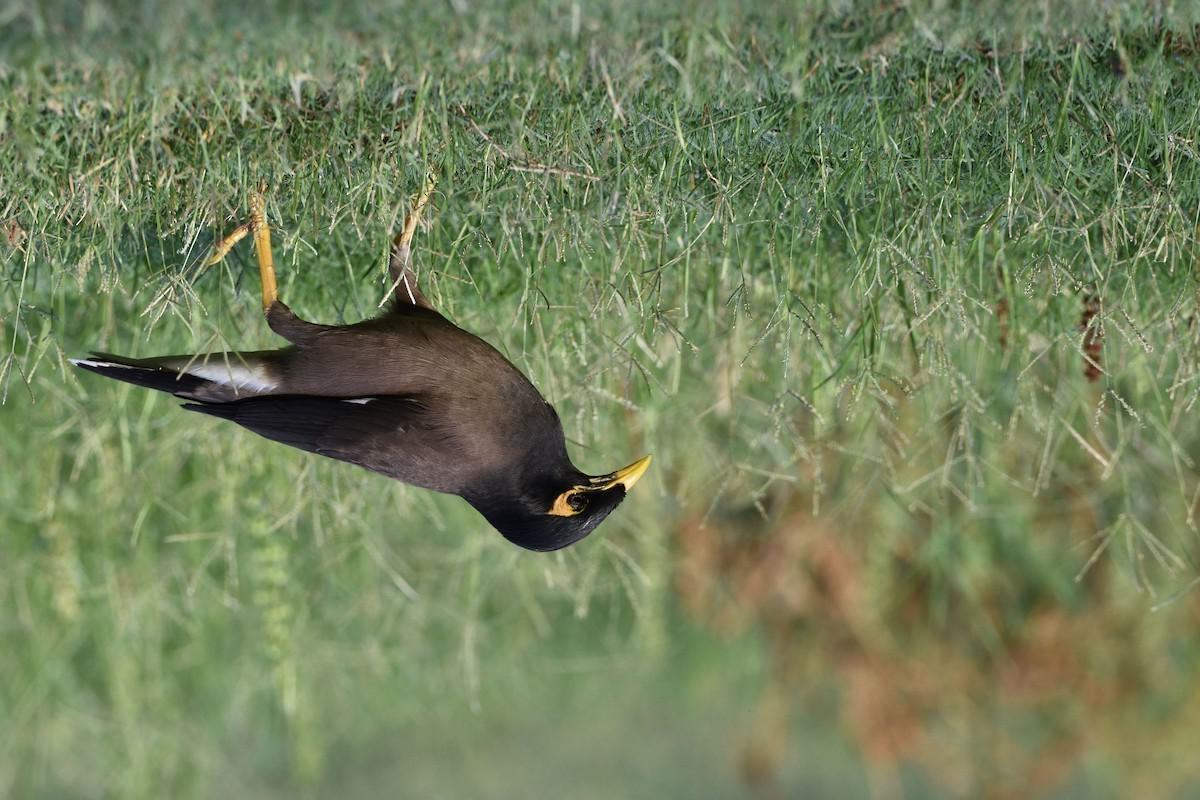myna: (75, 172, 654, 557)
